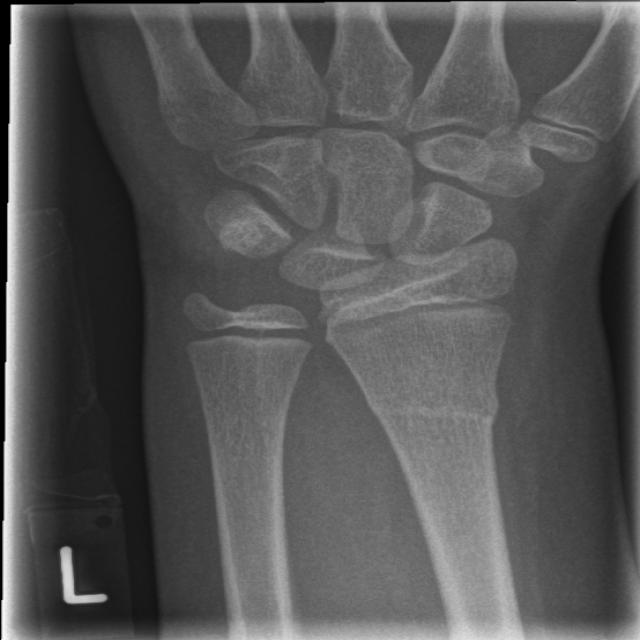radius fracture: (321, 354, 529, 470)
